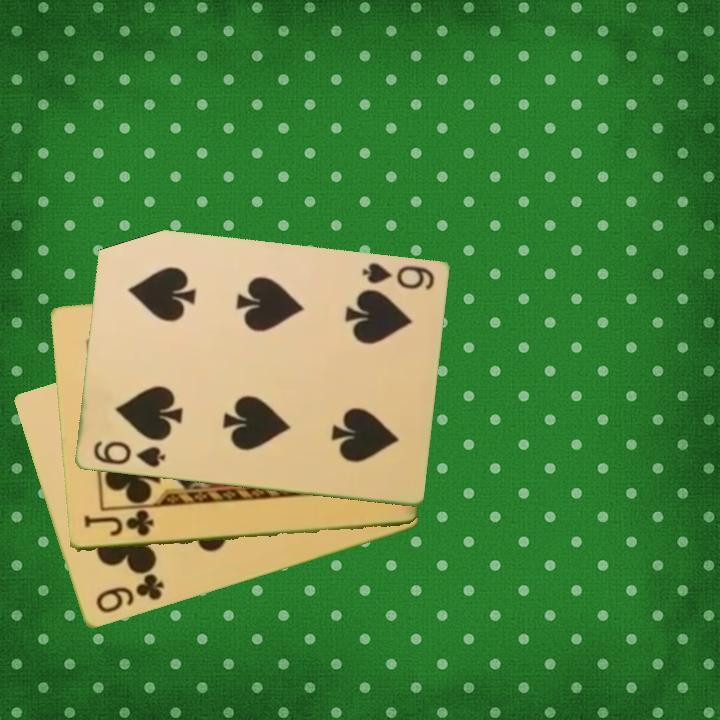6s: (358, 259, 437, 293), (89, 438, 168, 470)
9c: (92, 570, 167, 617)
Jc: (80, 508, 156, 540)
